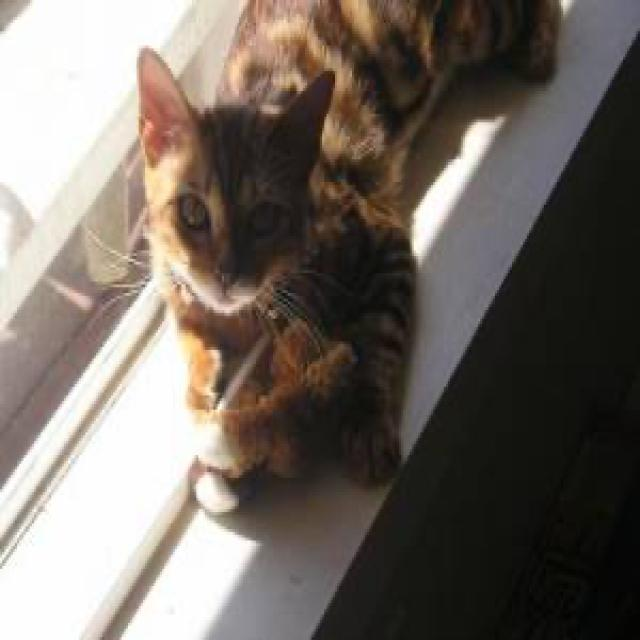cat: (134, 45, 333, 313)
